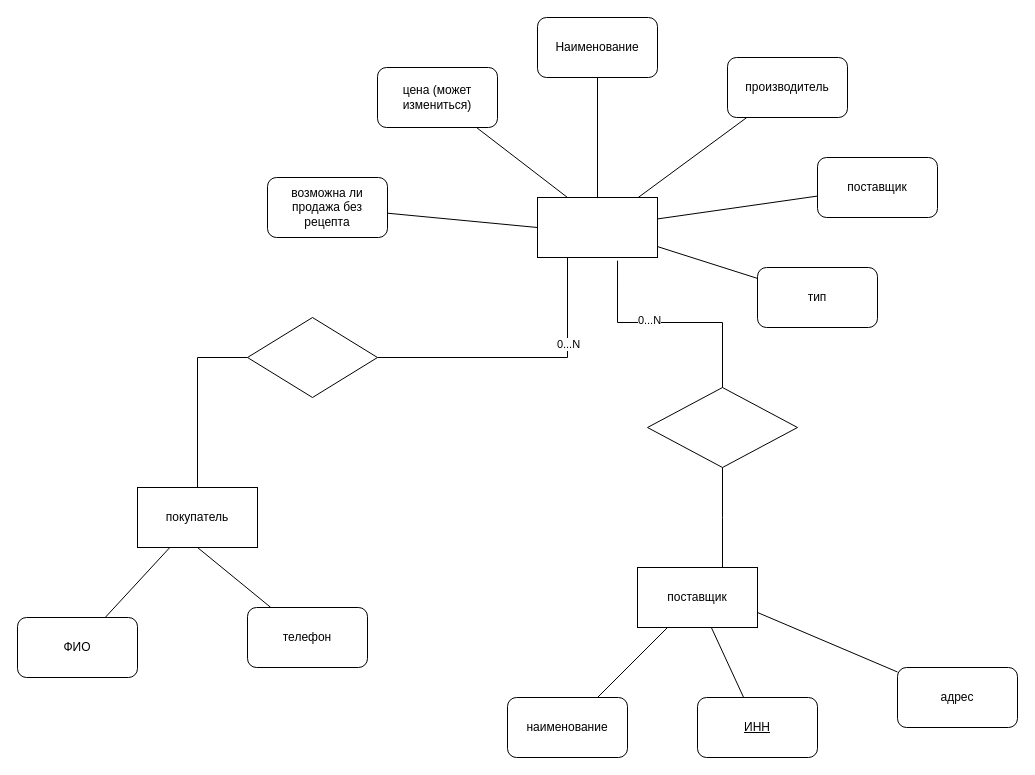
Some shapes in this 1035 by 775 pixel diagram are drawn without their labels. Each missing label, with the box of its shape:
лекарство: (536, 196, 658, 258)
покупает: (246, 316, 378, 398)
поставляет: (646, 386, 798, 468)
